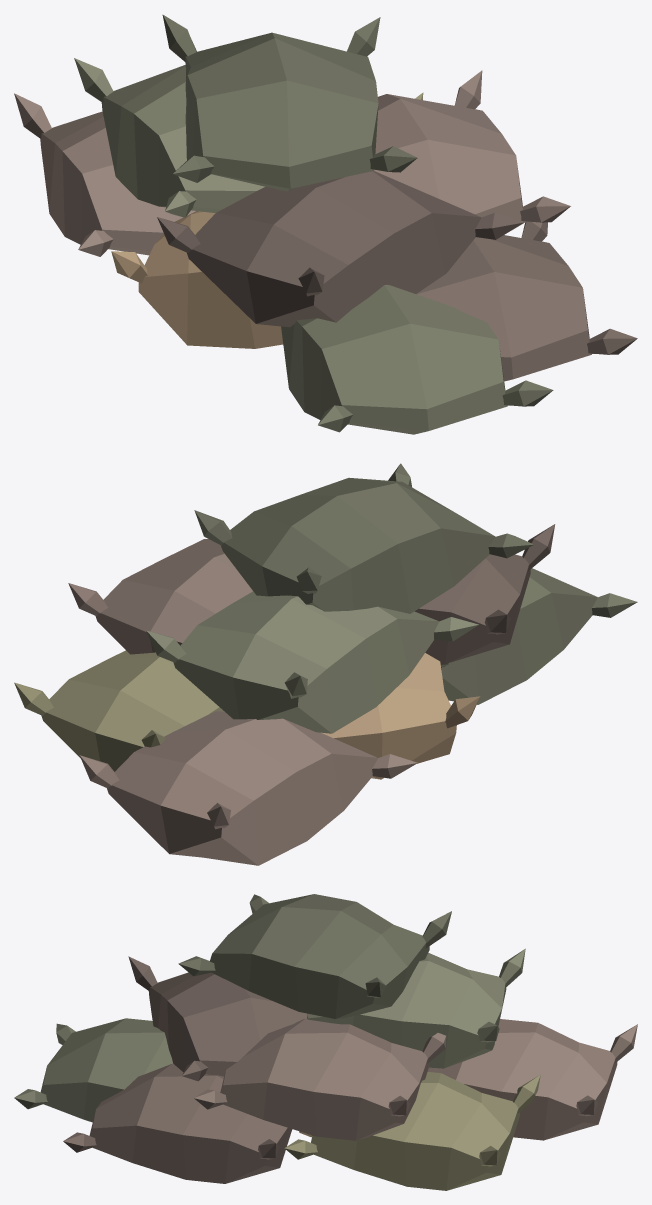
File: sackes (1).fbx
3 views of the same model, one above another, from view 1: azimuth 30°, elevation 25°; view 2: azimuth 150°, elevation 25°; view 3: azimuth 270°, elevation 25° (orthographic). The views are drawn at different scales.
Visible parts, largest first — view 1: group181920446.006; view 2: group181920446.006; view 3: group181920446.006.
Part boxes in pixels (x1=…): group181920446.006: x1=14, y1=14, x2=637, y2=434; group181920446.006: x1=14, y1=463, x2=637, y2=865; group181920446.006: x1=14, y1=894, x2=637, y2=1190.
Size of the model in its own units: 161 by 109 by 277.
